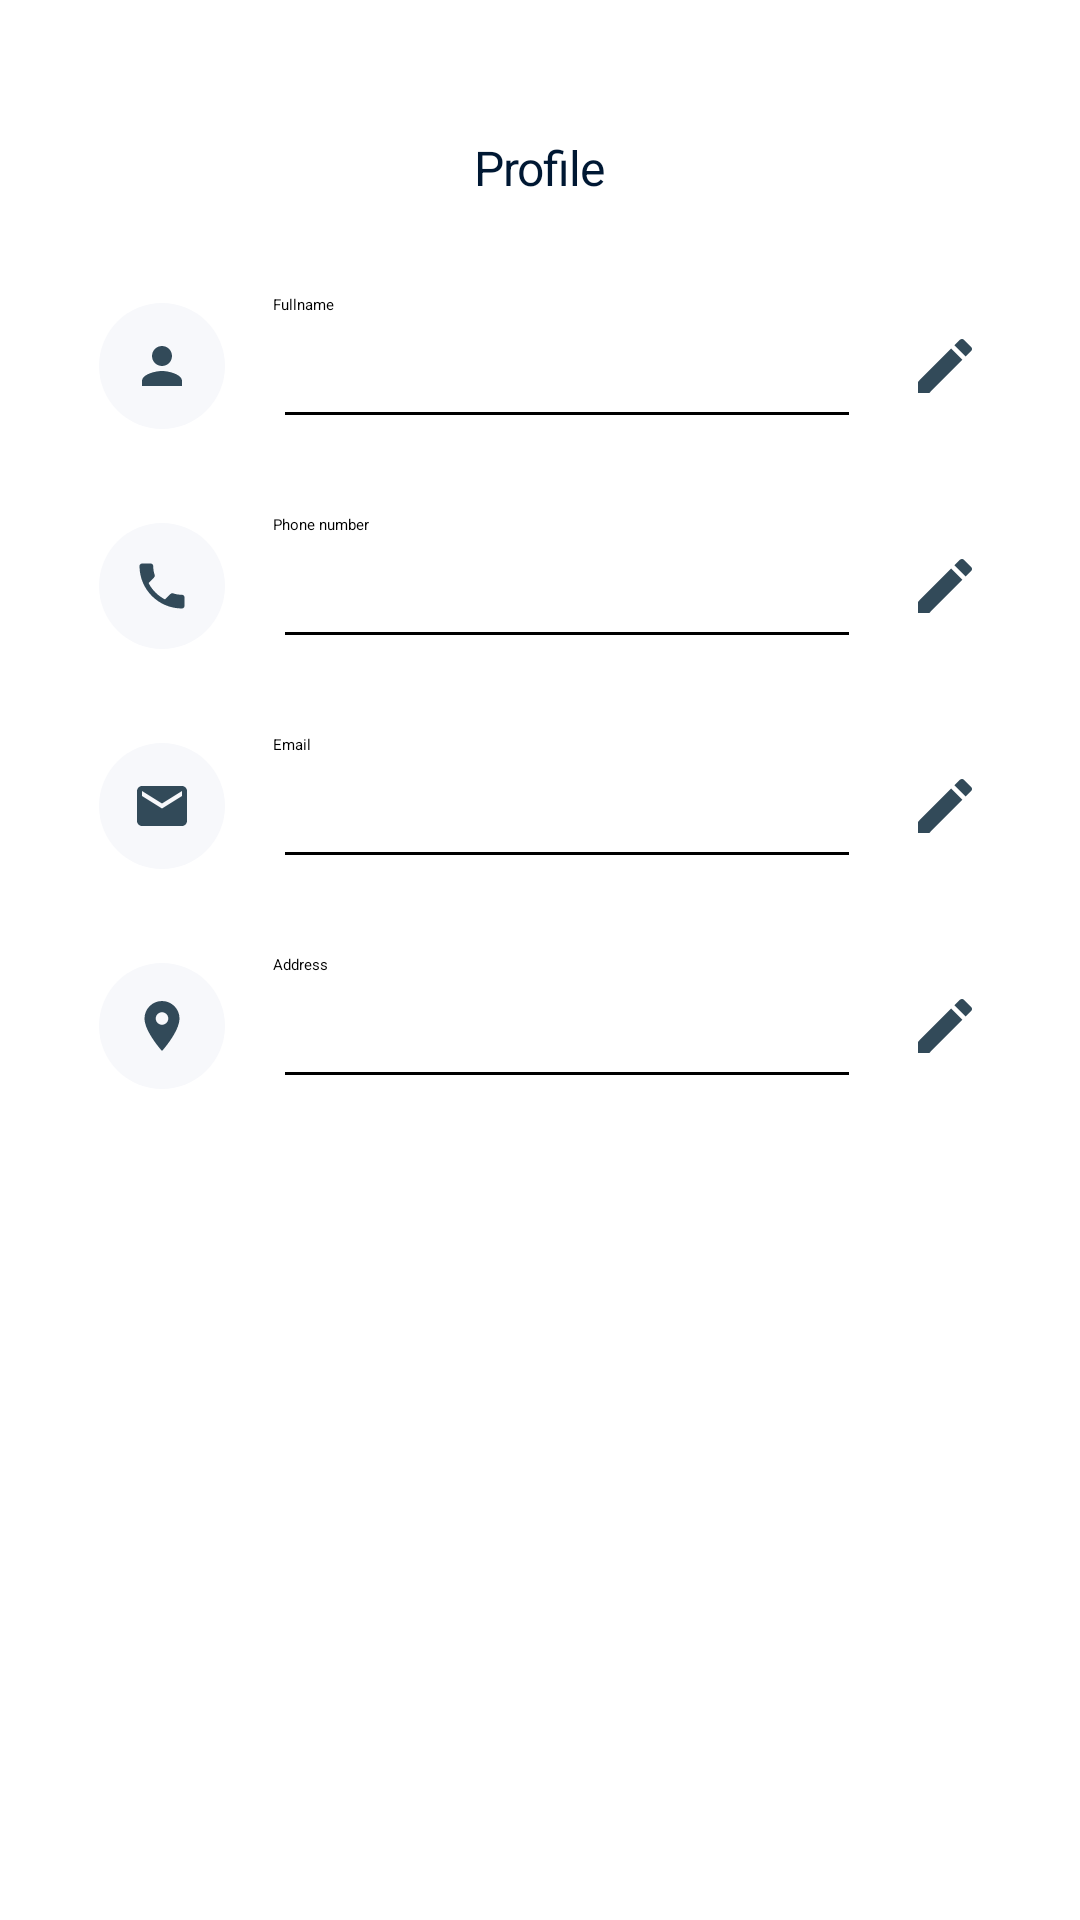

Screen size 1080px x 1920px. Icon name, then its center in pixels as (x=x, y=y):
edit: (x=945, y=366), (x=945, y=586), (x=945, y=806), (x=945, y=1026)
location: (x=162, y=1026)
